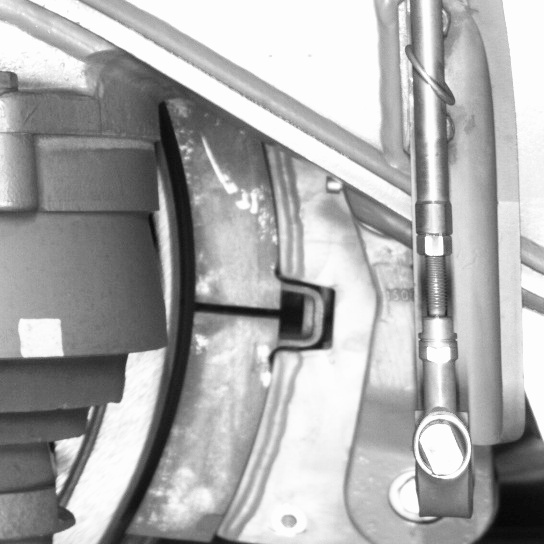KnifeSwitch: (95, 138, 297, 541)
